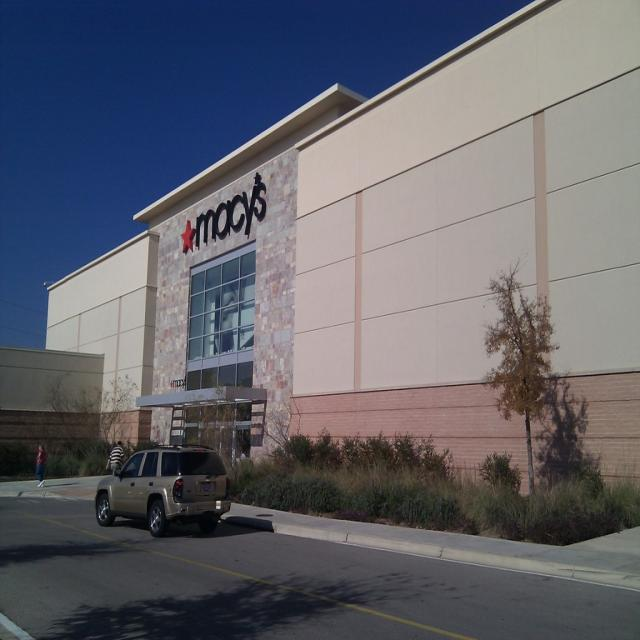car: (93, 443, 229, 539)
